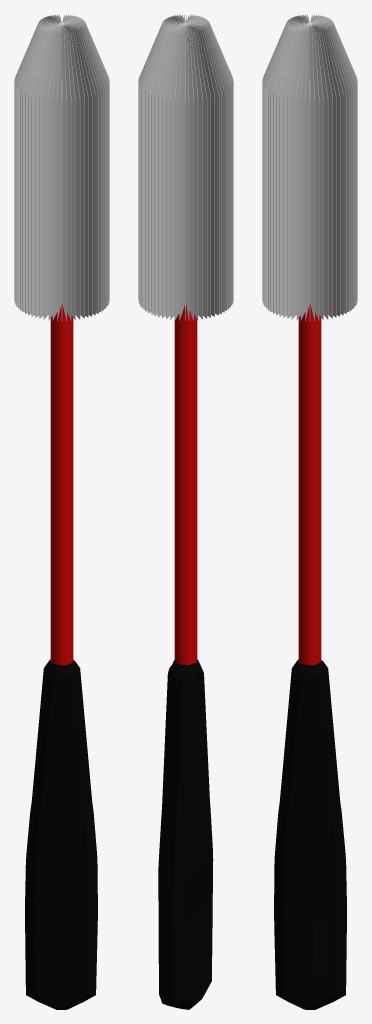
The model's file is brushv8.fbx.
The picture shows the model from 3 angles, left to right: view 1: azimuth 90°, elevation 25°; view 2: azimuth 150°, elevation 25°; view 3: azimuth 270°, elevation 25°; orthographic projection.
Parts seen in each view (by area): view 1: BrushV1.001; view 2: BrushV1.001; view 3: BrushV1.001.
Boxes of the visible parts, x1=… form: BrushV1.001: x1=14, y1=14, x2=109, y2=1009; BrushV1.001: x1=138, y1=14, x2=233, y2=1009; BrushV1.001: x1=262, y1=14, x2=357, y2=1009.
Bounding box in the file's own units: 836 × 9534 × 836.
